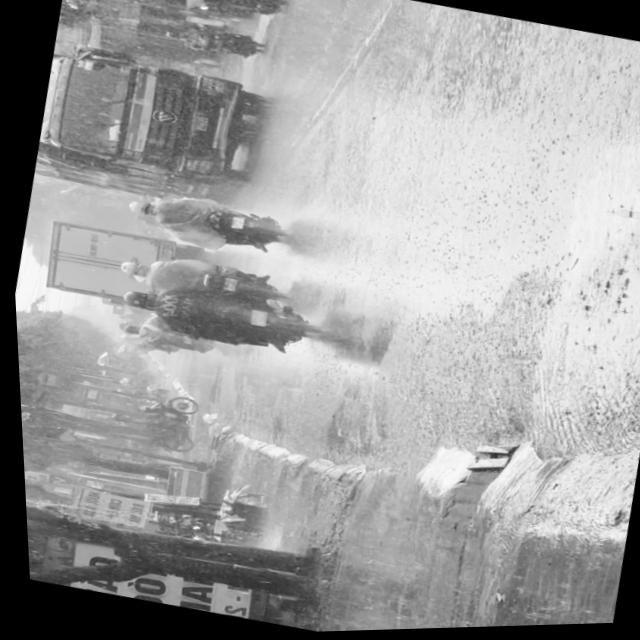helmet: (114, 287, 150, 312), (113, 258, 143, 278), (121, 197, 150, 217)
licenseplate: (105, 268, 328, 370), (116, 181, 289, 266), (110, 241, 286, 319)
nohelmet: (243, 310, 263, 327), (217, 277, 232, 292), (225, 216, 240, 230)
